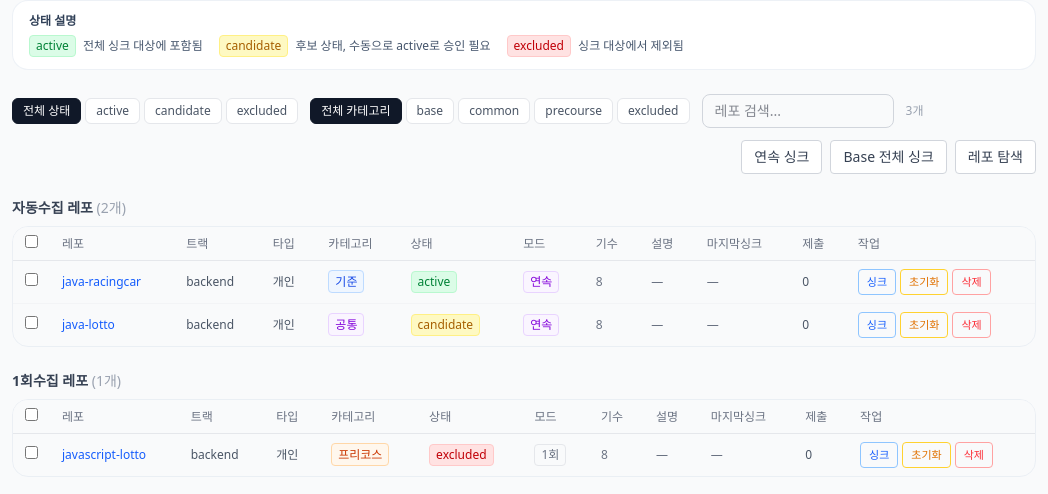
Scenario: RepoTab › should filter by tab category and search on the client
Expected: the link "java-racingcar" is shown, [62,273,141,290]
Click the button "common" at (494, 111), box [458,98,530,124]
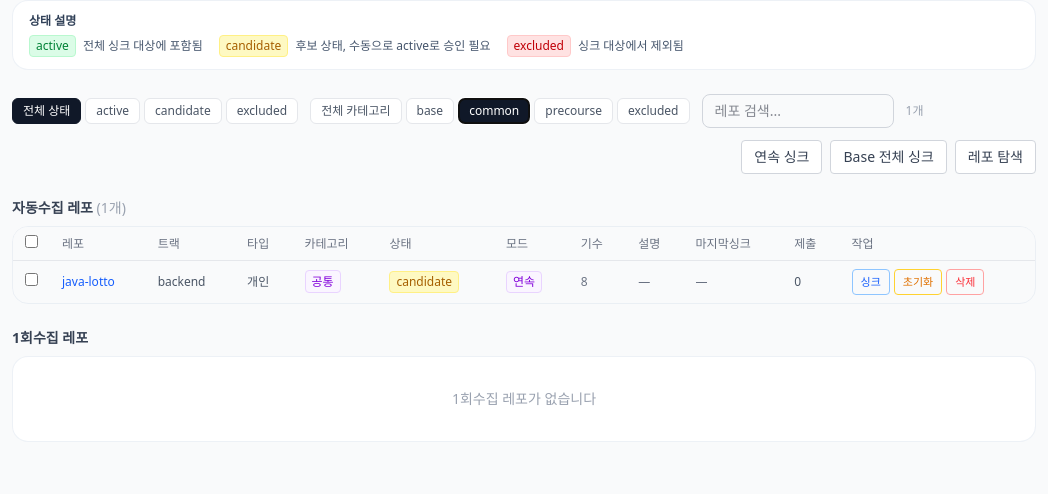
Expected: the link "java-lotto" is shown, [62,273,115,290]
Expected: the link "java-racingcar" is gone
Expected: the text "1개" is shown, [906,103,923,119]
Click the button "전체 카테고리" at (356, 111), box [310,98,402,124]
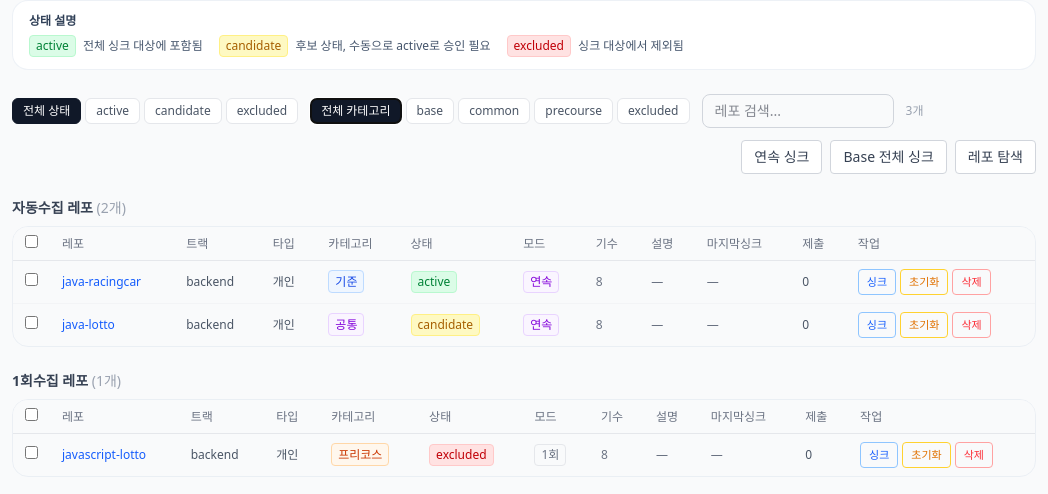
Type "LOTTO" into the field with placeholder "레포 검색..." at (798, 111), box [702,94,894,128]
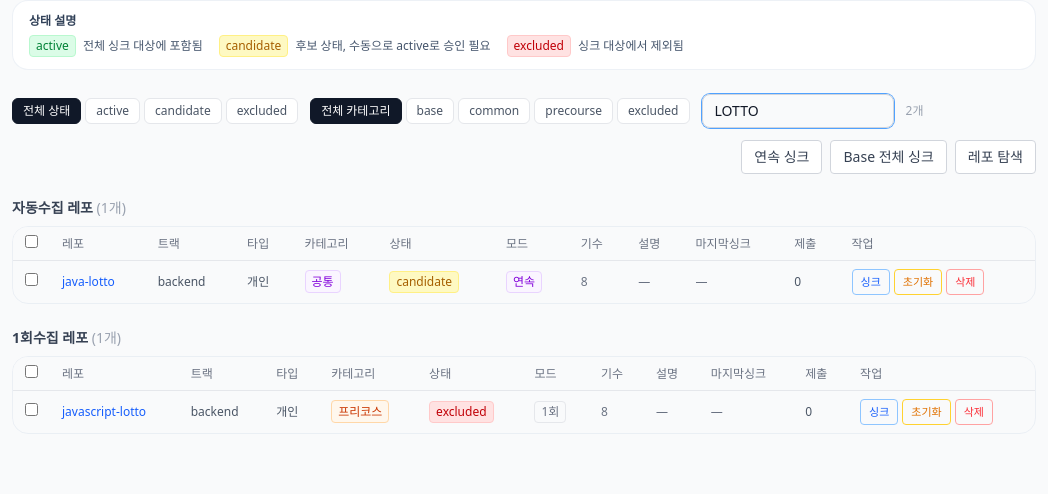
Expected: the link "java-lotto" is shown, [62,273,115,290]
Expected: the link "javascript-lotto" is shown, [62,403,146,420]
Expected: the link "java-racingcar" is gone
